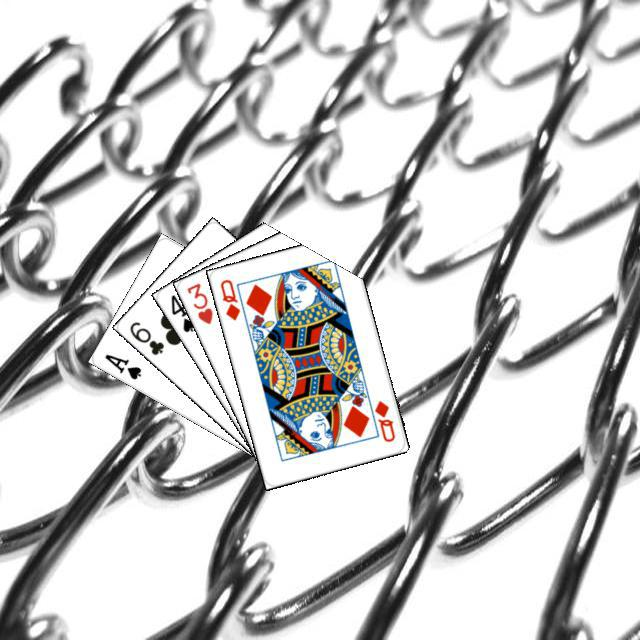3h: (182, 278, 214, 326)
4s: (166, 289, 198, 334)
6c: (124, 316, 166, 357)
As: (99, 349, 143, 381)
Qd: (369, 395, 397, 444), (215, 274, 242, 322)
